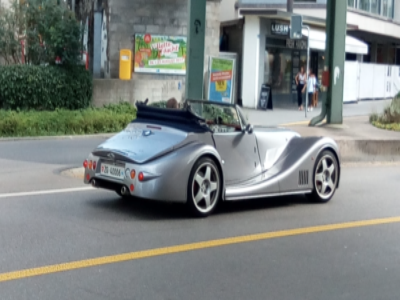licence: (102, 163, 125, 180)
